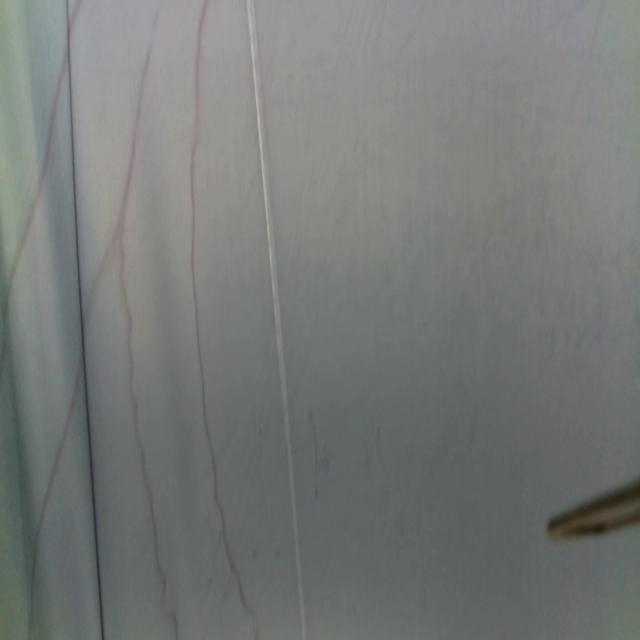crease: (245, 0, 307, 640), (65, 1, 105, 640)
